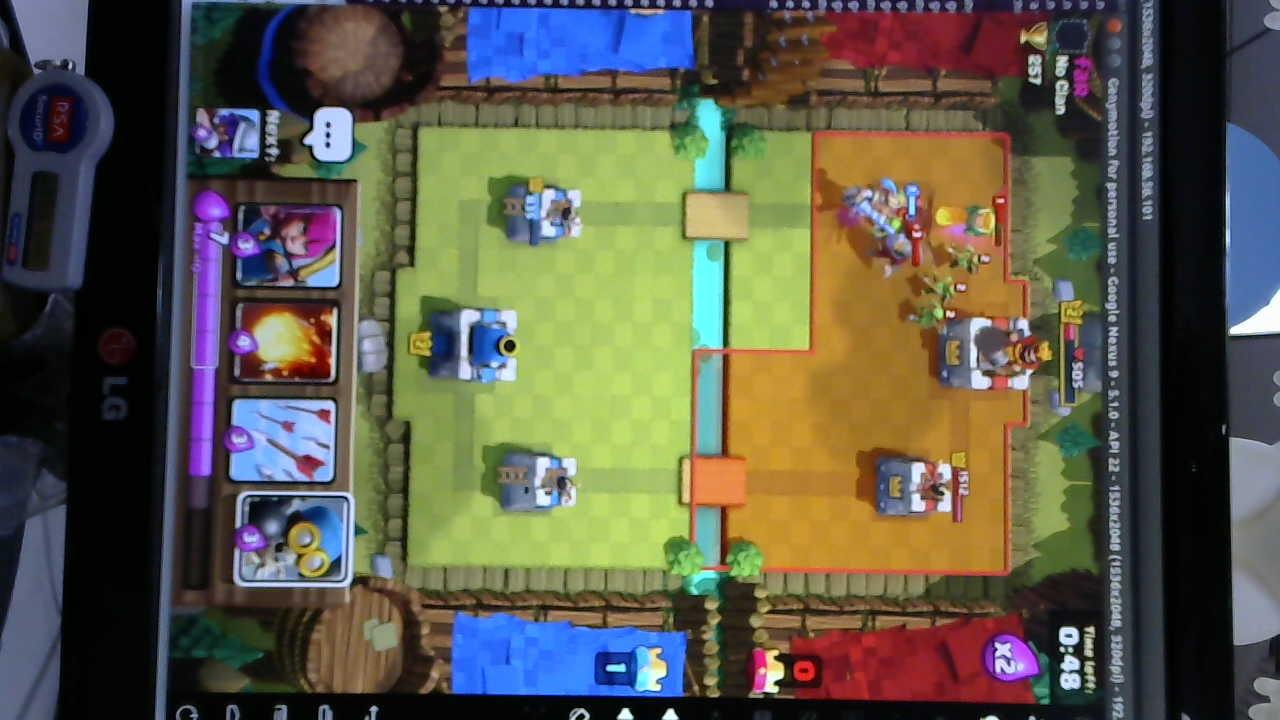arena: (497, 445, 584, 516), (503, 181, 586, 246)
dragon: (958, 196, 996, 241)
earena: (873, 454, 952, 520)
eking: (939, 312, 1044, 391)
king: (431, 303, 522, 386)
knight: (863, 229, 922, 265)
prince: (838, 182, 905, 230)
speargoblins: (908, 248, 981, 328)
